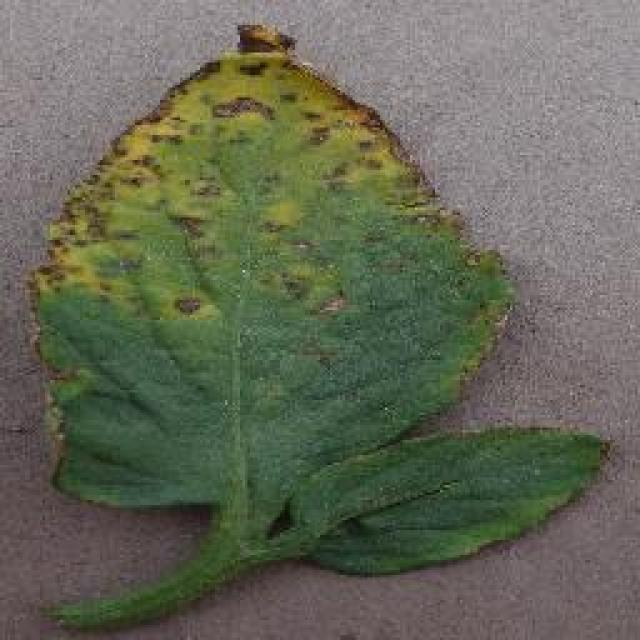Tomato bacterial spot leaf: (25, 19, 612, 578)
